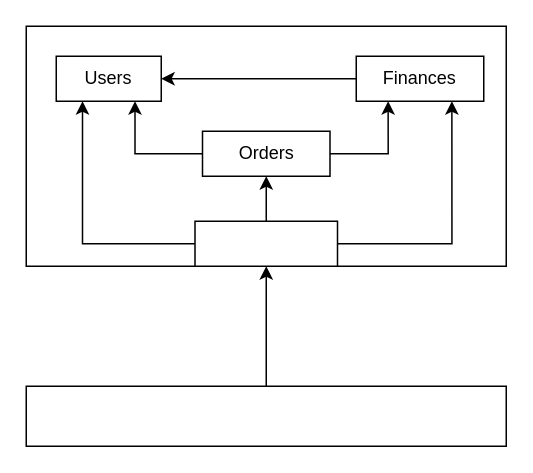
This 533x473 diagram has some shape labels left out. The centre of each missing label's shape, as x and y in pixels:
Load Balancer: point (266, 243)
SPA: point (265, 415)
